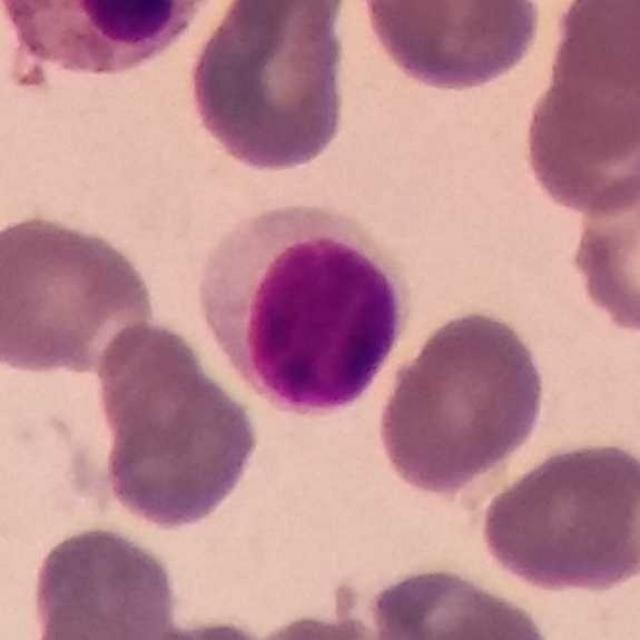Eosinophil: (0, 0, 211, 88)
Lymphocyte: (184, 183, 410, 420)
RBC: (91, 324, 265, 534), (373, 304, 550, 499), (181, 1, 355, 177), (0, 208, 159, 379), (477, 438, 640, 596), (351, 0, 542, 96), (27, 521, 181, 639), (523, 78, 640, 222), (365, 560, 558, 640), (564, 150, 640, 338), (550, 0, 640, 98), (263, 609, 396, 640)
